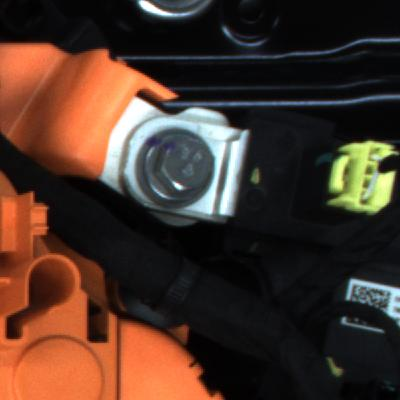nut_b: (130, 125, 224, 215)
